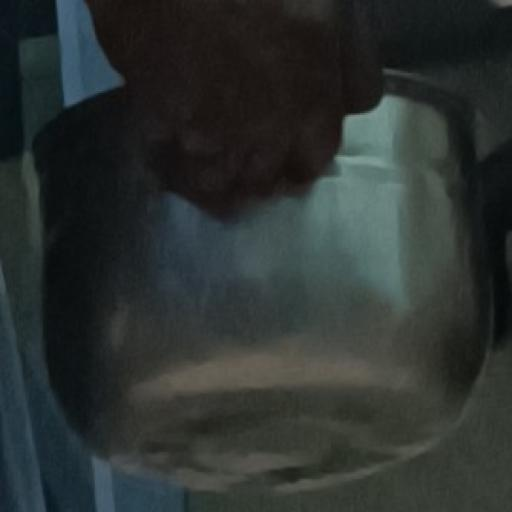vessel: (34, 71, 491, 490)
